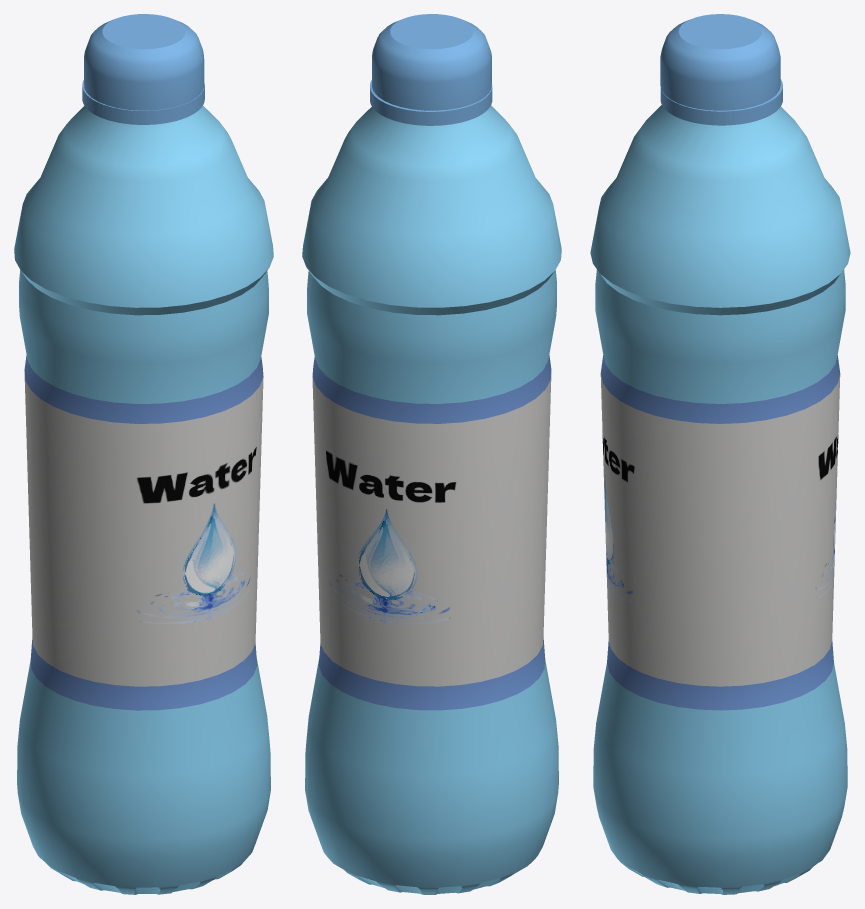
File: water.glb
The picture shows the model from 3 angles, left to right: view 1: azimuth 30°, elevation 25°; view 2: azimuth 150°, elevation 25°; view 3: azimuth 270°, elevation 25°; orthographic projection.
Parts seen in each view (by area): view 1: Object_4, Object_5, Object_2, Object_3; view 2: Object_4, Object_5, Object_2, Object_3; view 3: Object_4, Object_5, Object_2, Object_3.
Boxes of the visible parts, x1=… form: Object_4: x1=14, y1=106, x2=273, y2=894; Object_5: x1=24, y1=355, x2=263, y2=710; Object_2: x1=84, y1=14, x2=204, y2=110; Object_3: x1=82, y1=80, x2=204, y2=124; Object_4: x1=302, y1=105, x2=561, y2=894; Object_5: x1=312, y1=355, x2=551, y2=710; Object_2: x1=372, y1=14, x2=491, y2=110; Object_3: x1=370, y1=80, x2=492, y2=125; Object_4: x1=590, y1=105, x2=850, y2=894; Object_5: x1=600, y1=355, x2=840, y2=710; Object_2: x1=660, y1=14, x2=780, y2=110; Object_3: x1=660, y1=79, x2=782, y2=125.
Size of the model in its own units: 2.37 by 8.28 by 2.37.
Materials: 4 (1 with a texture image).
